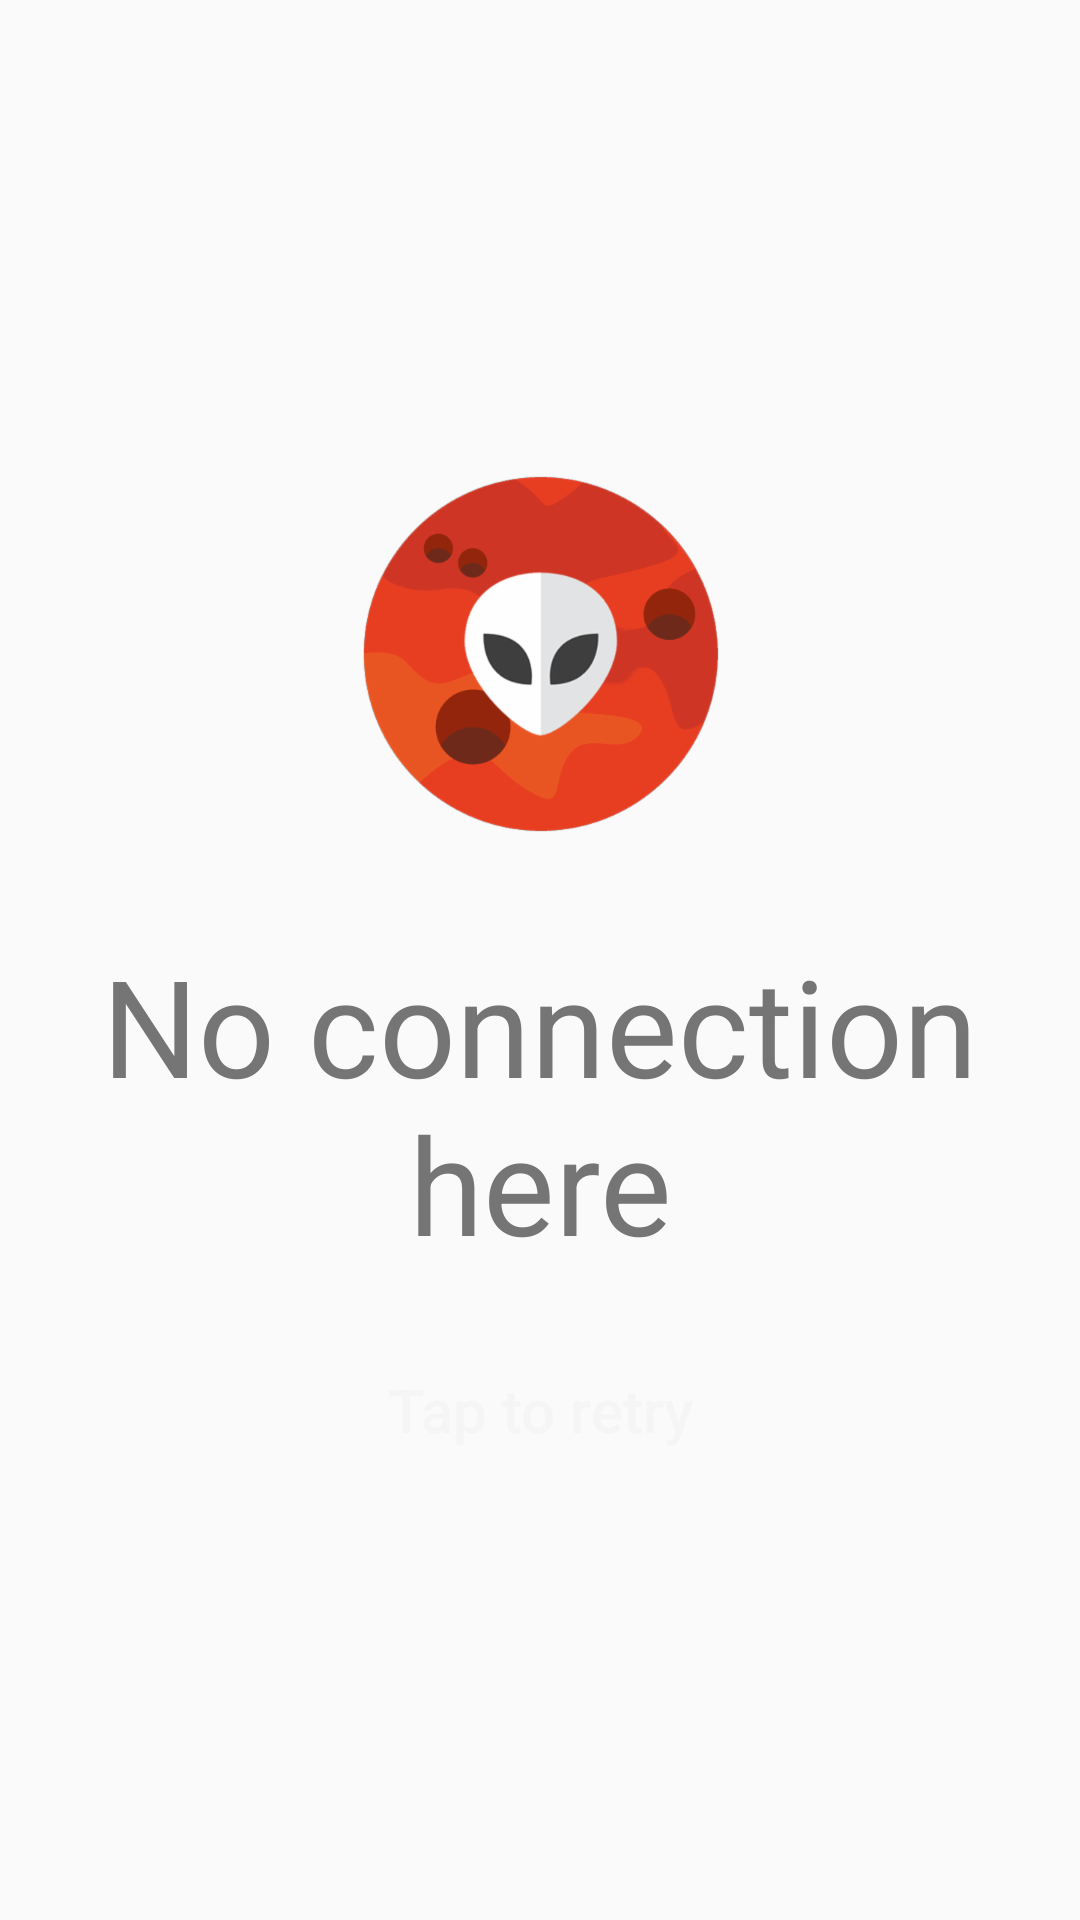

Screen size 1080 x 1920. Icon name, then its box in pixels as bbox=(x1, y1, x2, y2):
alien: bbox=(363, 477, 718, 831)
